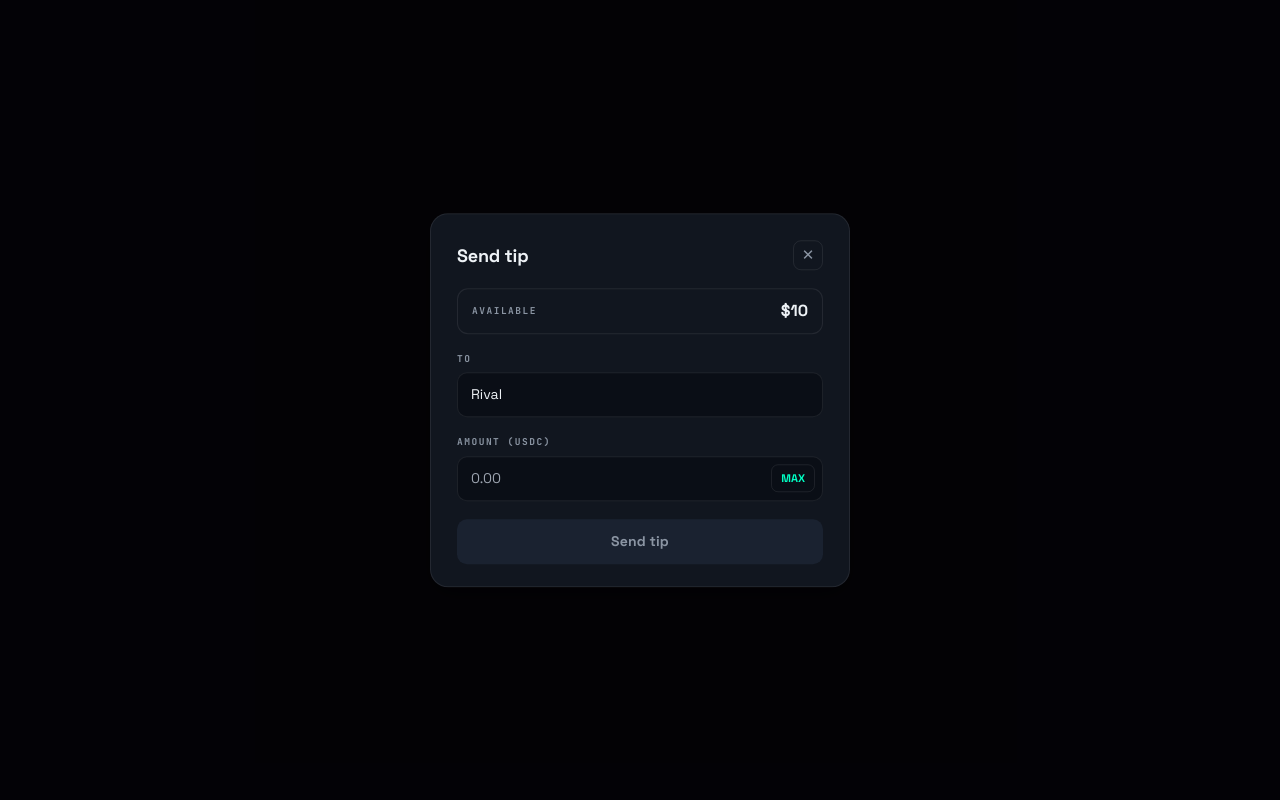
Scenario: TipModal › explica que el jugador no tiene cuenta
Type "2" into the field named "amount" at (640, 478), box [457,456,823,501]
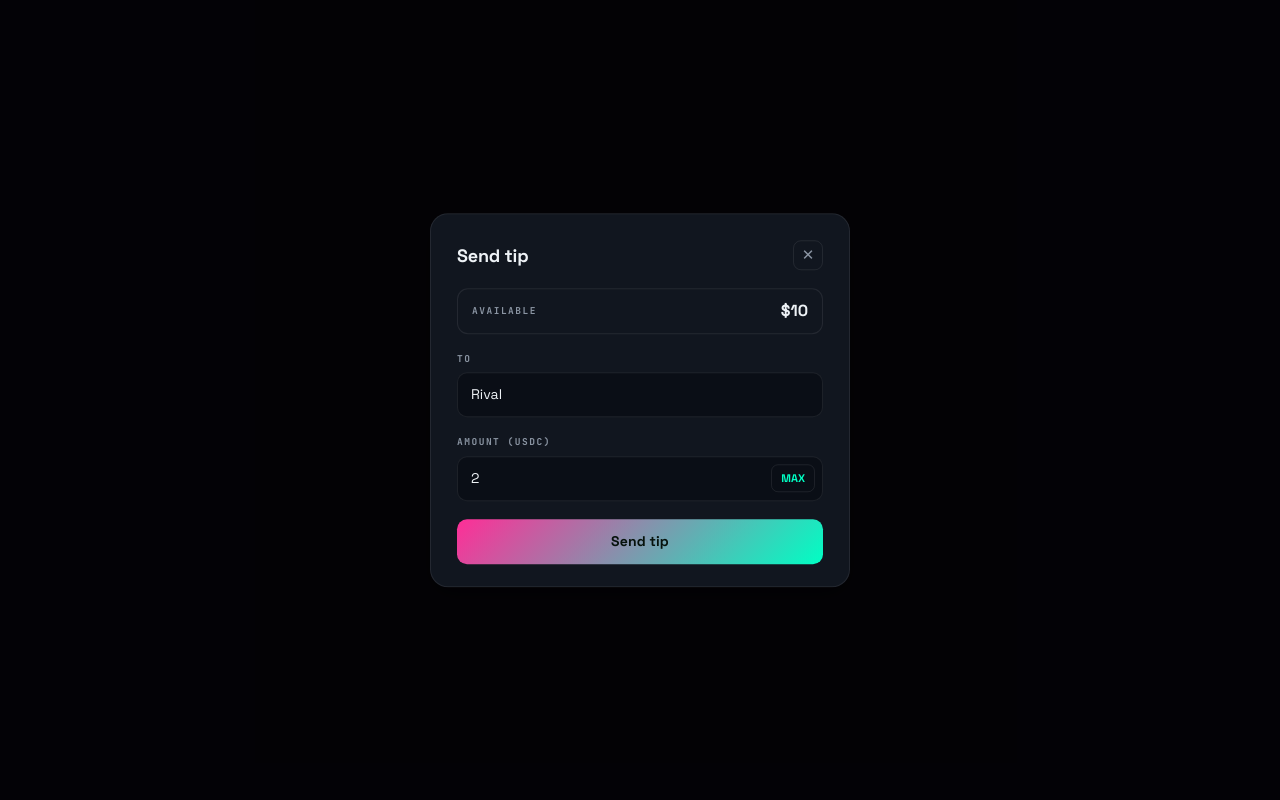
Click the button "Send tip" at (640, 541), box [457,519,823,564]
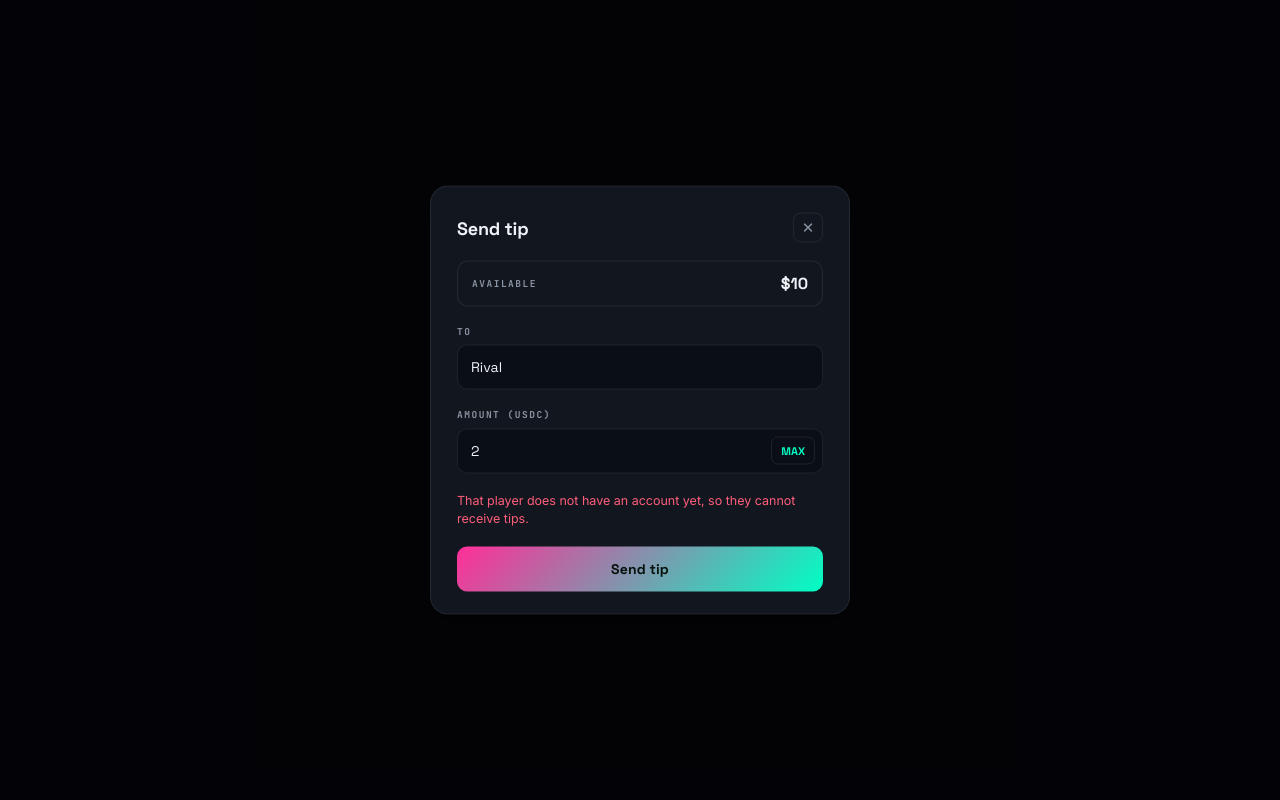
Result: the text "does not have an account yet" is shown at [457,492,795,526]
